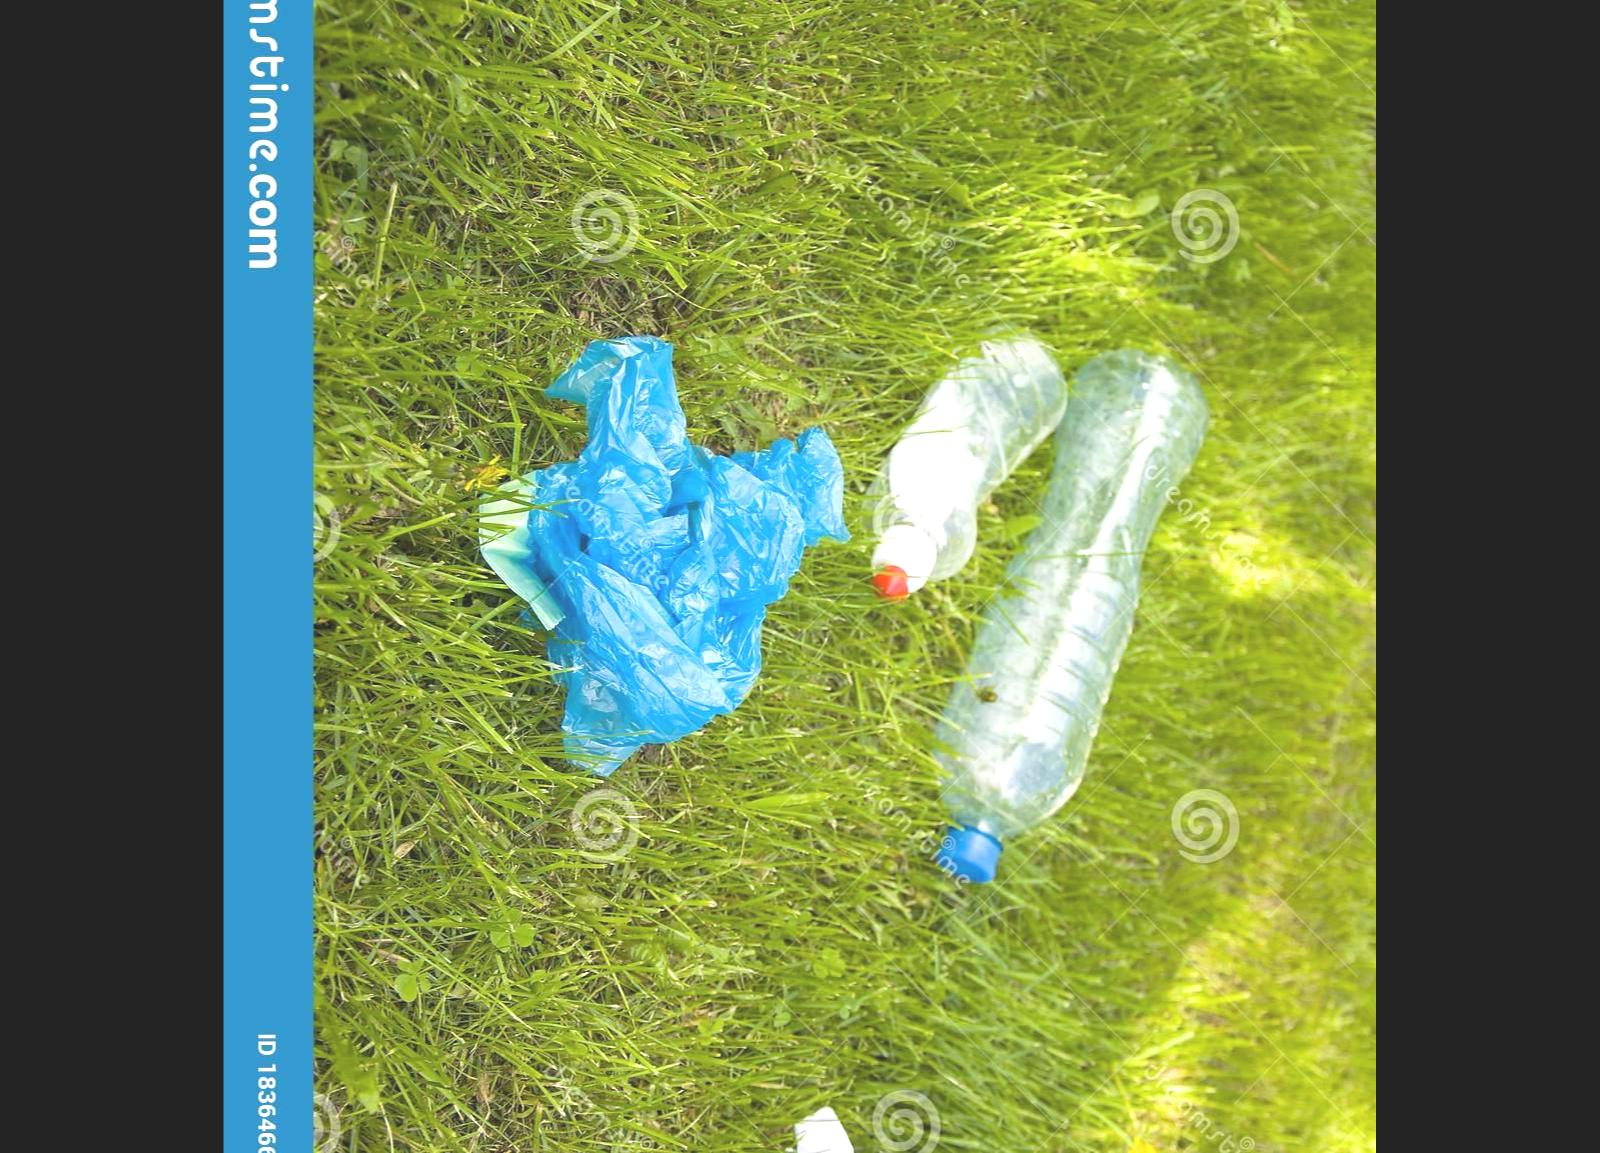bottle: (929, 337, 1229, 903), (856, 304, 1086, 610), (945, 471, 955, 476)
